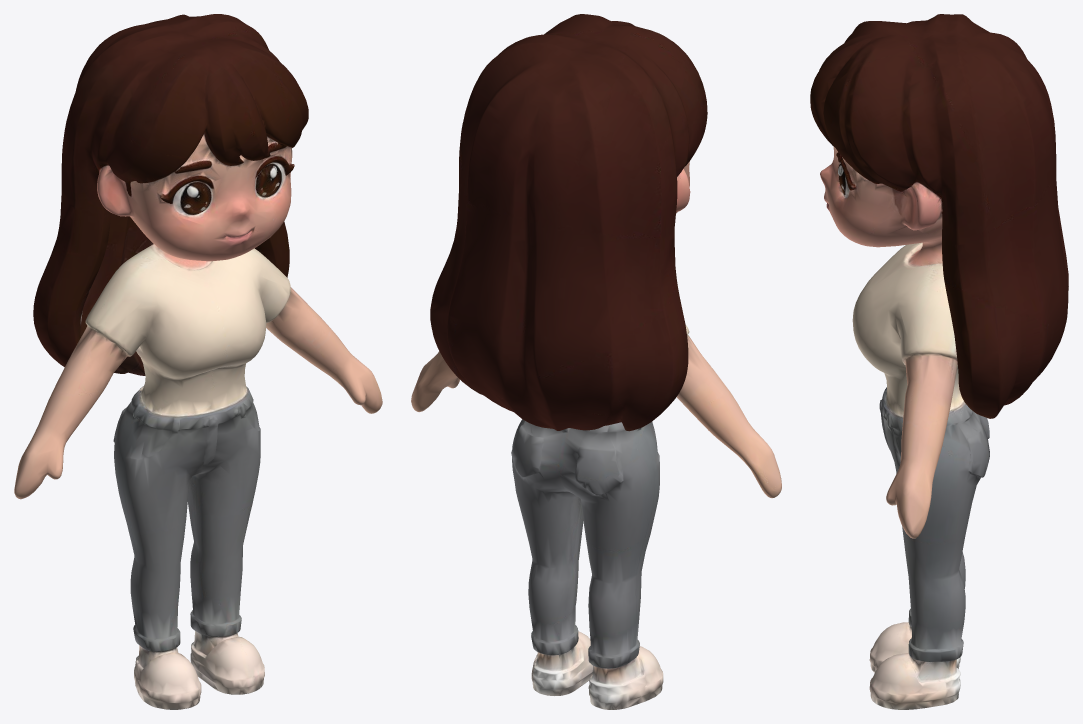
File: char_jachwi_f_base.glb
3 views of the same model, side by side, from view 1: azimuth 30°, elevation 25°; view 2: azimuth 150°, elevation 25°; view 3: azimuth 270°, elevation 25° (orthographic).
Size of the model in its own units: 0.8301 by 1.4 by 0.5052.
1 material, 1 textured.
